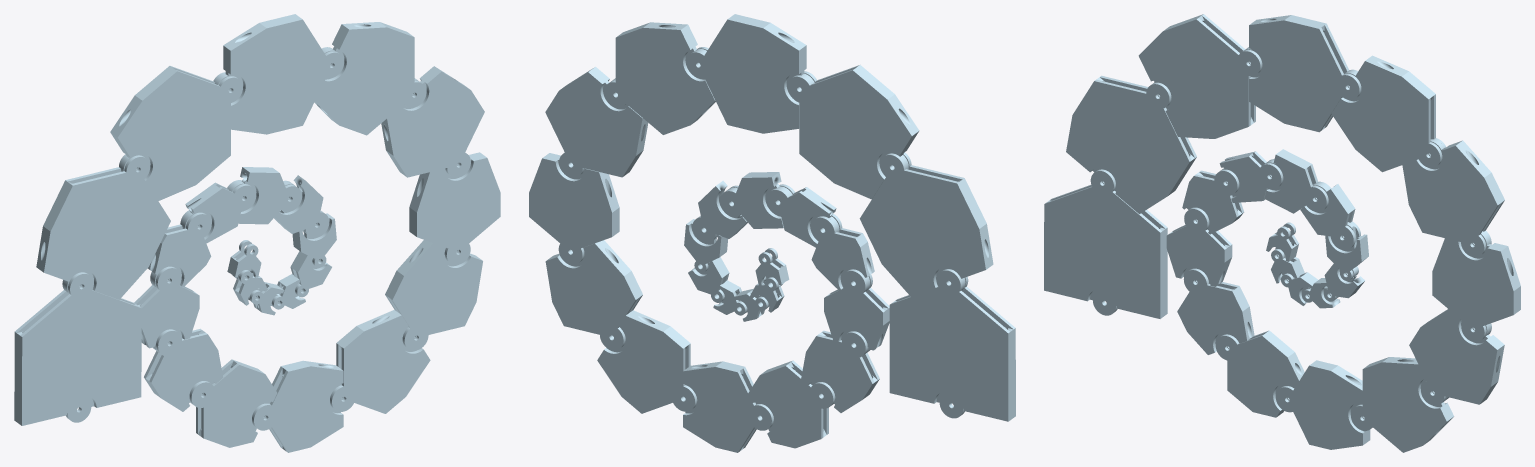
The model's file is Final product GLB.glb.
3 views of the same model, side by side, from view 1: azimuth 30°, elevation 25°; view 2: azimuth 150°, elevation 25°; view 3: azimuth 330°, elevation 25° (orthographic). The views are drawn at different scales.
Visible parts, largest first — view 1: Part 1 (×23); view 2: Part 1 (×23); view 3: Part 1 (×23).
Boxes of the visible parts, left/top/right/bottom form: Part 1 (×23): left=14, top=14, right=500, bottom=452; Part 1 (×23): left=529, top=14, right=1015, bottom=452; Part 1 (×23): left=1044, top=14, right=1520, bottom=452.
Size of the model in its own units: 0.4024 by 0.3456 by 0.022.
